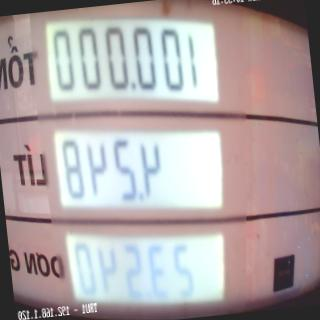screen: (32, 1, 247, 320)
